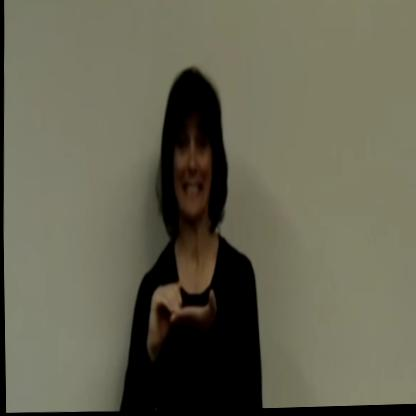ExcuseMe: (139, 262, 225, 370)
